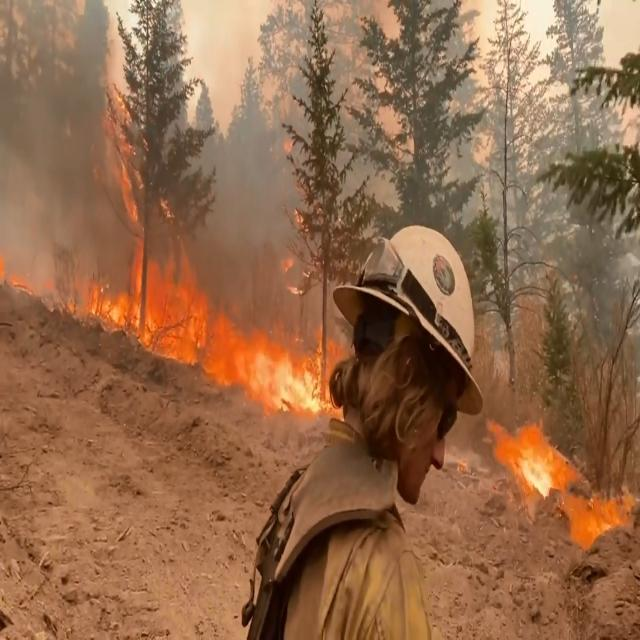Fire: (24, 92, 333, 416), (487, 406, 627, 544)
